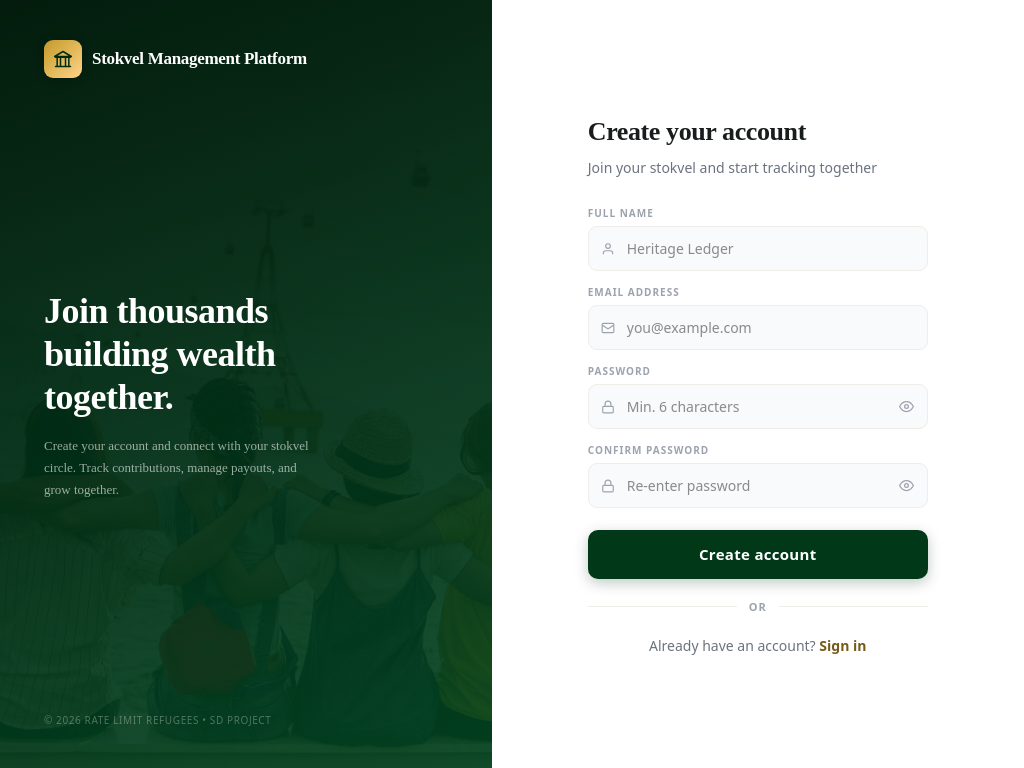
Test: SignUp › shows inline validation when passwords do not match
The image size is (1024, 768).
Type "password123" into the password field with placeholder "Min. 6 characters" at (758, 406), box [588,384,928,429]
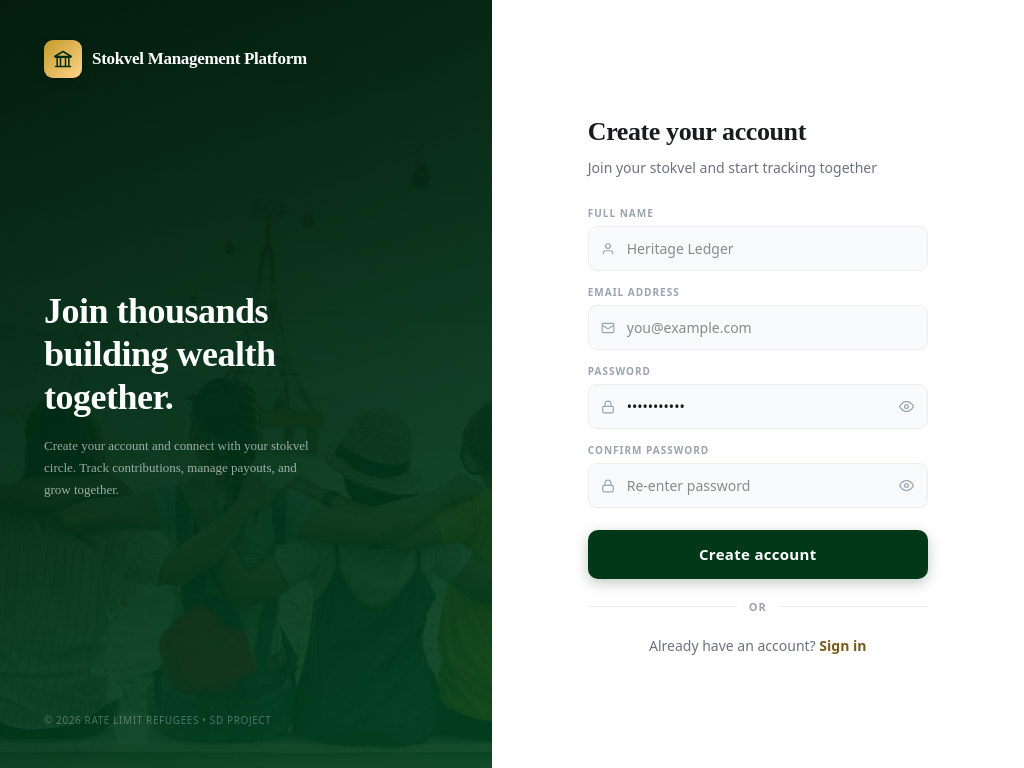
Type "different" into the password field with placeholder "Re-enter password" at (758, 486), box [588,463,928,508]
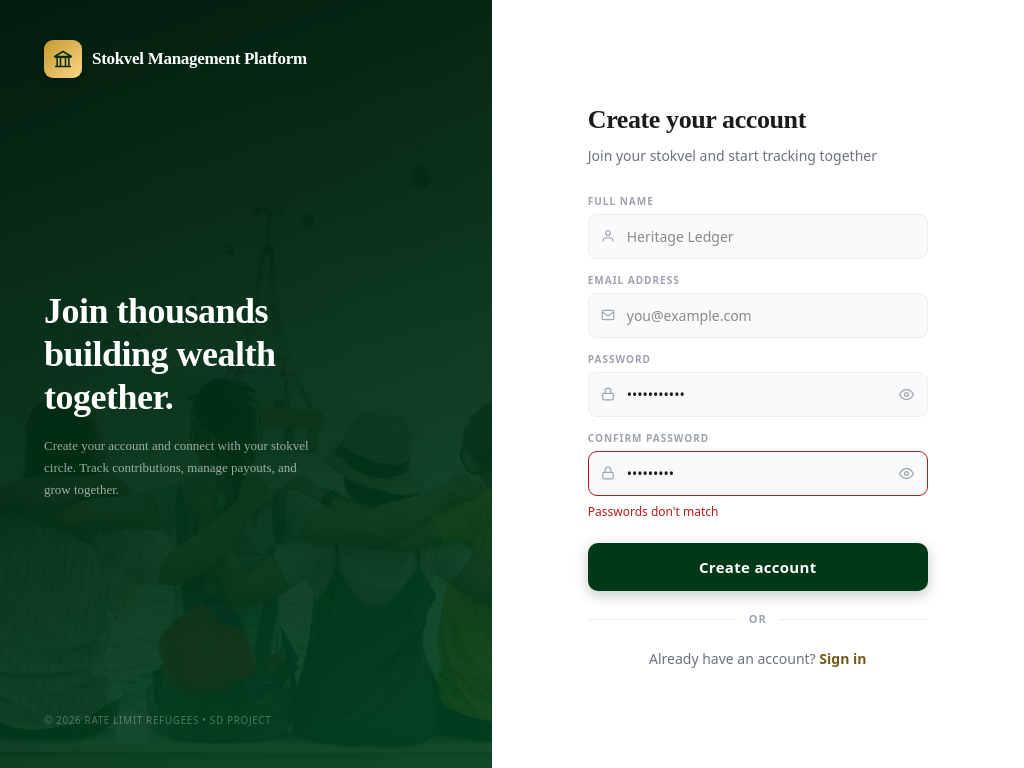
Now the text "Passwords don't match" is shown, box [588,502,718,520]
